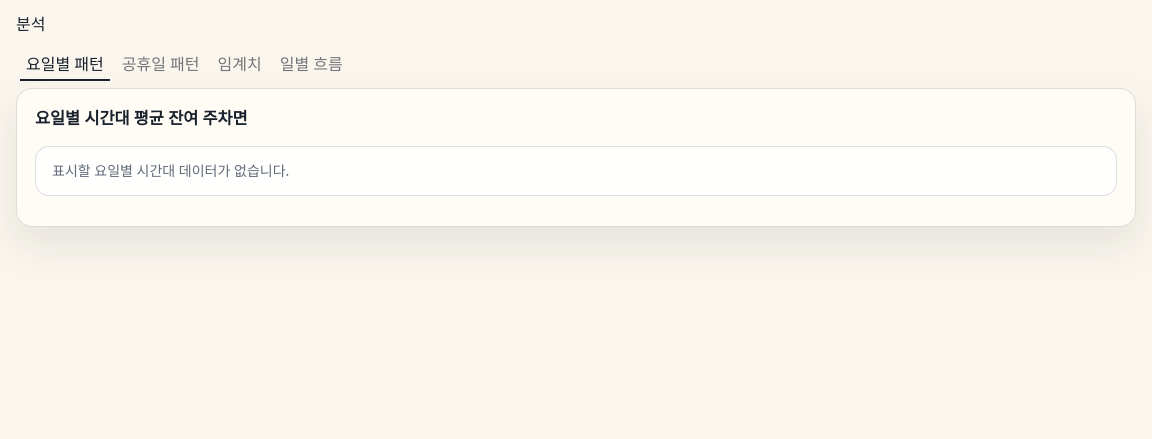
AnalyticsView › renders the four sub-tabs and switches between them
Expected: the tab "요일별 패턴" is shown, left=19, top=52, right=111, bottom=76
Click the tab "공휴일 패턴".
click(161, 64)  # box left=115, top=52, right=207, bottom=76
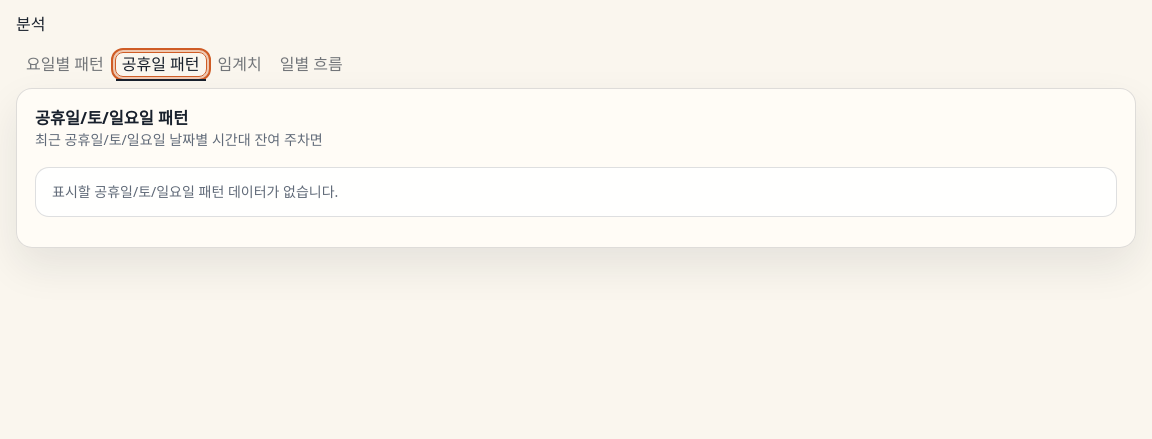
Expected: the text "표시할 공휴일/토/일요일 패턴 데이터가 없습니다." is shown, left=35, top=166, right=1117, bottom=216
Click the tab "임계치".
click(240, 64)  # box left=210, top=52, right=269, bottom=76
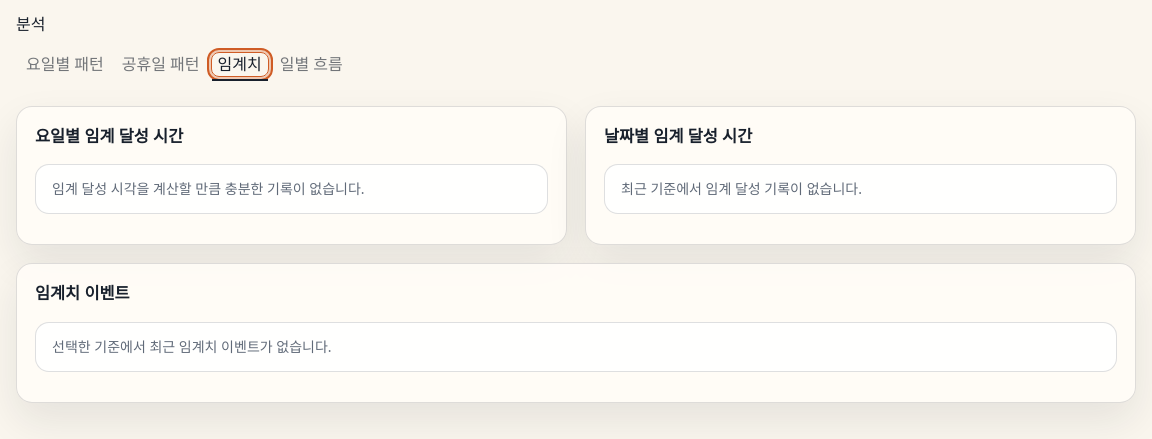
Expected: the heading "임계치 이벤트" is shown, left=35, top=282, right=130, bottom=306
Click the tab "일별 흐름".
click(311, 64)  # box left=273, top=52, right=350, bottom=76
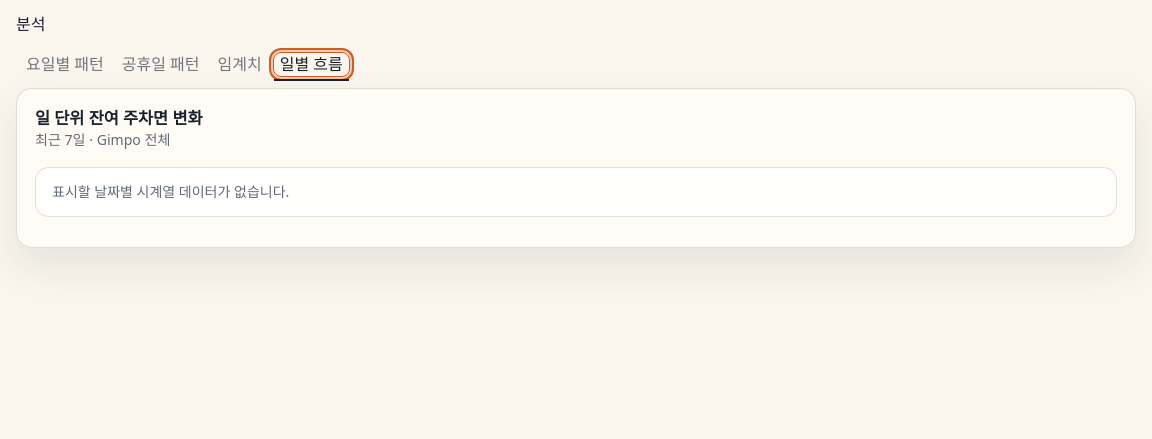
Expected: the text "표시할 날짜별 시계열 데이터가 없습니다." is shown, left=35, top=166, right=1117, bottom=216
